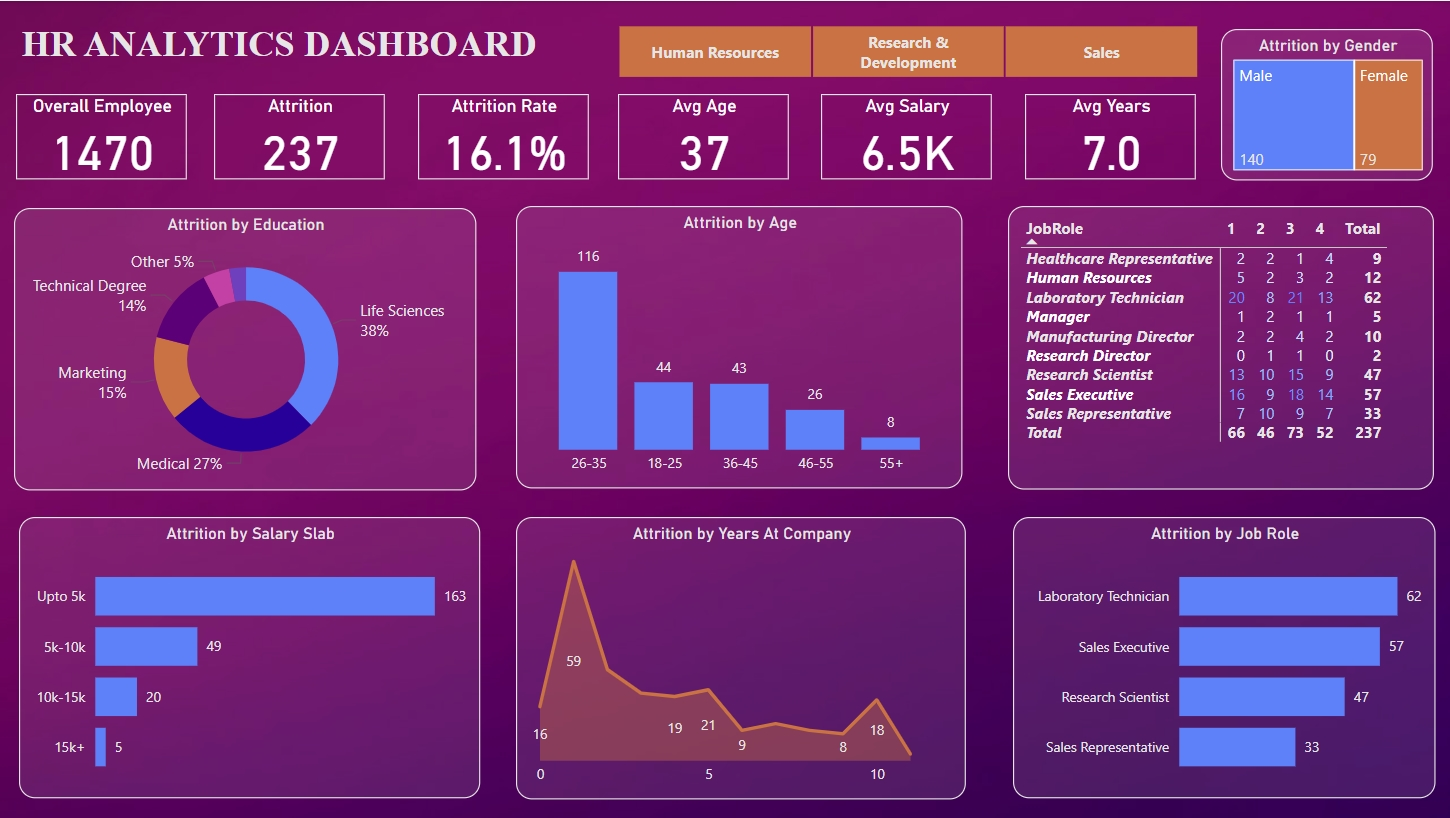

This screenshot's page, from the dashboard's own definition file:
{"tool":"powerbi","page":{"name":"Page 1","canvas":[1280,720],"ordinal":0},"visuals":[{"type":"card","title":"Overall Employee","fields":{"Values":["CountNonNull(HR_Analytics.EmpID)"]},"box":[15.6,81.7,149.8,74.9],"z":0},{"type":"card","title":"Attrition","fields":{"Values":["Sum(HR_Analytics.AttritionCount)"]},"box":[189.7,81.7,149.8,74.9],"z":1000},{"type":"card","title":"Attrition Rate","fields":{"Values":["HR_Analytics.AttritionRate"]},"box":[368.6,81.7,149.8,74.9],"z":2000},{"type":"card","title":"Avg Age","fields":{"Values":["Avg(HR_Analytics.Age)"]},"box":[544.7,81.7,149.8,74.9],"z":3000},{"type":"card","title":"Avg Salary","fields":{"Values":["Avg(HR_Analytics.MonthlyIncome)"]},"box":[722.7,81.7,149.8,74.9],"z":4000},{"type":"card","title":"Avg Years","fields":{"Values":["Avg(HR_Analytics.YearsAtCompany)"]},"box":[901.6,81.7,149.8,74.9],"z":5000},{"type":"columnChart","title":"Attrition by Age","fields":{"Category":["HR_Analytics.AgeGroup"],"Y":["Sum(HR_Analytics.AttritionCount)"]},"box":[455.2,179.9,392,248],"z":6000},{"type":"donutChart","title":"Attrition by Education","fields":{"Category":["HR_Analytics.EducationField"],"Y":["Sum(HR_Analytics.AttritionCount)"]},"box":[13.6,181.9,405.6,248],"z":7000},{"type":"pivotTable","fields":{"Rows":["HR_Analytics.JobRole"],"Columns":["HR_Analytics.JobSatisfaction"],"Values":["Sum(HR_Analytics.AttritionCount)"]},"box":[887.1,179.9,374.5,249],"z":8000},{"type":"barChart","title":"Attrition by Salary Slab","fields":{"Category":["HR_Analytics.SalarySlab"],"Y":["Sum(HR_Analytics.AttritionCount)"]},"box":[18.5,453.3,404.6,247.1],"z":9000},{"type":"barChart","title":"Attrition by Job Role","fields":{"Y":["Sum(HR_Analytics.AttritionCount)"],"Category":["HR_Analytics.JobRole"]},"box":[890.9,453.3,370.6,247.1],"z":10000},{"type":"stackedAreaChart","title":"Attrition by Years At Company","fields":{"Category":["HR_Analytics.YearsAtCompany"],"Y":["Sum(HR_Analytics.AttritionCount)"]},"box":[455.2,453.3,394.9,248],"z":11000},{"type":"treemap","title":"Attrition by Gender","fields":{"Group":["HR_Analytics.Gender"],"Values":["Sum(HR_Analytics.AttritionCount)"]},"box":[1074,25,186,133],"z":12000},{"type":"slicer","fields":{"Values":["HR_Analytics.Department"]},"box":[505,18,567,53],"z":13000},{"type":"textbox","box":[16,14,476,57],"z":14000}]}

Visuals, with their boxes in screenshot pixels (x1, y1, x2, y2), scaled from the page's 1280x720 canvas onto the 1450x818 screenshot:
"Overall Employee" card: select_region(18, 93, 187, 178)
"Attrition" card: select_region(215, 93, 385, 178)
"Attrition Rate" card: select_region(418, 93, 587, 178)
"Avg Age" card: select_region(617, 93, 787, 178)
"Avg Salary" card: select_region(819, 93, 988, 178)
"Avg Years" card: select_region(1021, 93, 1191, 178)
"Attrition by Age" columnChart: select_region(516, 204, 960, 486)
"Attrition by Education" donutChart: select_region(15, 207, 475, 488)
pivotTable - HR_Analytics.JobRole x HR_Analytics.JobSatisfaction: select_region(1005, 204, 1429, 487)
"Attrition by Salary Slab" barChart: select_region(21, 515, 479, 796)
"Attrition by Job Role" barChart: select_region(1009, 515, 1429, 796)
"Attrition by Years At Company" stackedAreaChart: select_region(516, 515, 963, 797)
"Attrition by Gender" treemap: select_region(1217, 28, 1427, 180)
slicer - HR_Analytics.Department: select_region(572, 20, 1214, 81)
textbox: select_region(18, 16, 557, 81)
